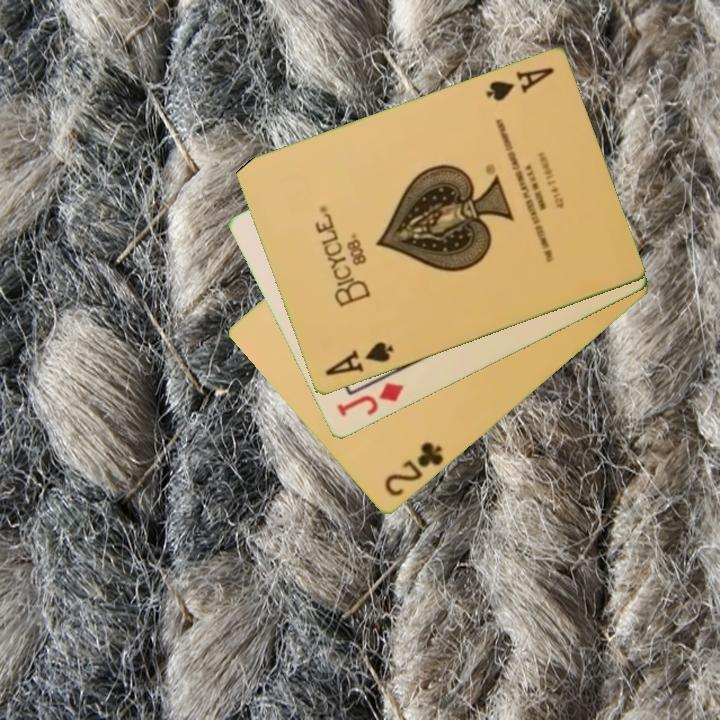2c: (381, 439, 447, 500)
As: (321, 338, 397, 380), (482, 64, 557, 105)
Jd: (333, 379, 407, 420)
